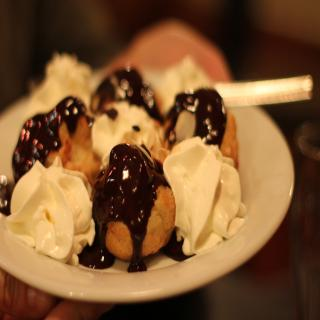Ice cream: (83, 140, 178, 281), (1, 153, 99, 269), (160, 132, 250, 258)
